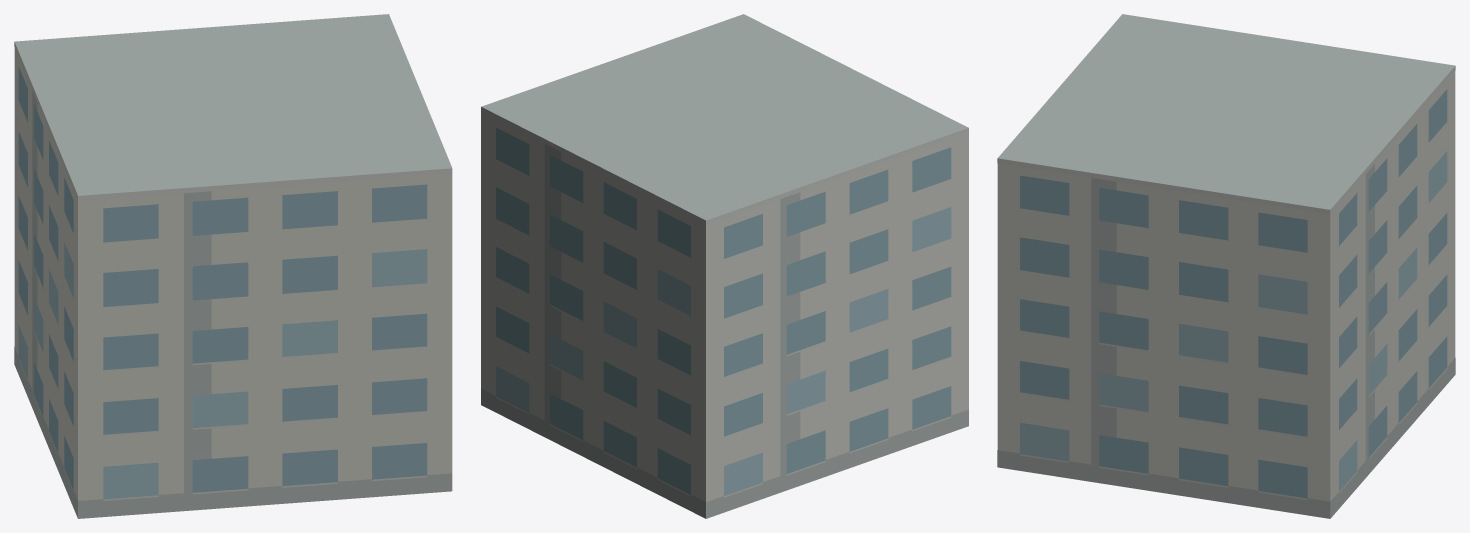
Rendered from residential-55c859f7-b59f-4afc-804e-890c9743c78c.glb.
3 renders of one model, left to right at view 1: azimuth 30°, elevation 25°; view 2: azimuth 150°, elevation 25°; view 3: azimuth 270°, elevation 25°, orthographic. The views are drawn at different scales.
Parts seen in each view (by area): view 1: residential-55c859f7-b59f-4afc-804e-890c9743c78c.tmp; view 2: residential-55c859f7-b59f-4afc-804e-890c9743c78c.tmp; view 3: residential-55c859f7-b59f-4afc-804e-890c9743c78c.tmp.
Boxes of the visible parts, <box> form: residential-55c859f7-b59f-4afc-804e-890c9743c78c.tmp: <box>14,14,452,518</box>; residential-55c859f7-b59f-4afc-804e-890c9743c78c.tmp: <box>481,14,968,518</box>; residential-55c859f7-b59f-4afc-804e-890c9743c78c.tmp: <box>997,14,1455,518</box>.
Bounding box in the file's own units: 20.74 × 15.25 × 20.49.
